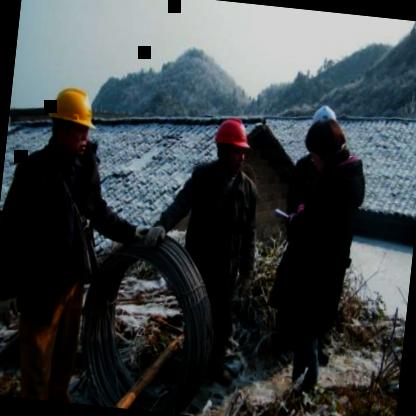head: (301, 117, 348, 178)
helmet: (40, 77, 101, 160), (208, 112, 254, 176)
